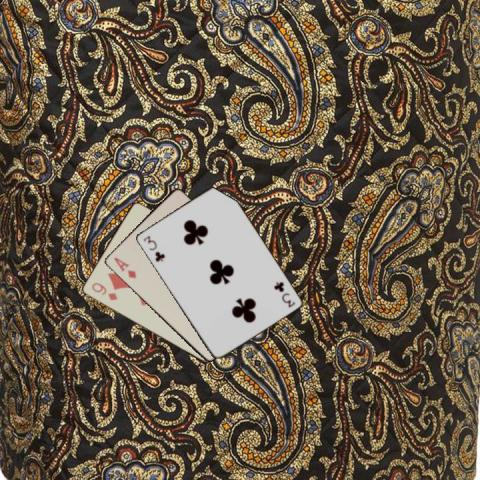3c: (140, 233, 166, 263), (271, 278, 296, 308)
9d: (89, 279, 119, 302)
Ad: (111, 254, 137, 280)
